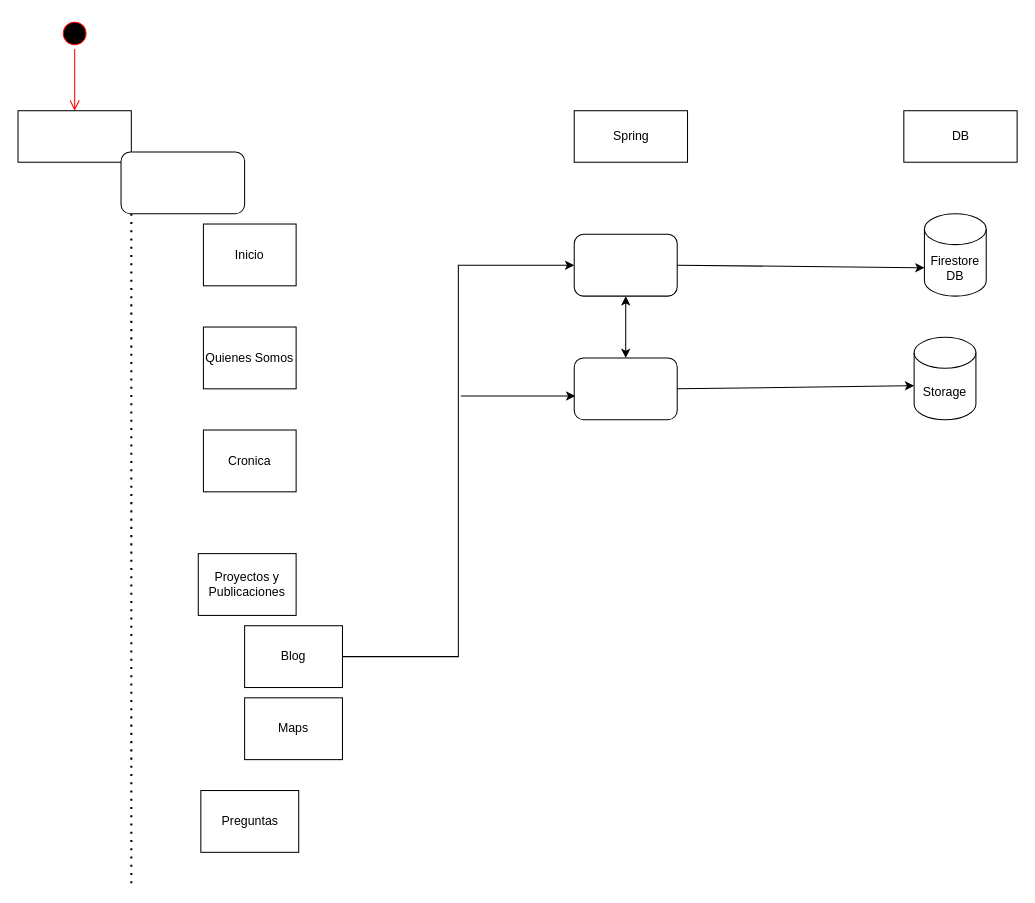
This 1035x903 diagram has some shape labels left out. The centre of each missing label's shape, as x and y in pixels:
"Frontend" belongs at (74,136).
"Image Supplier" belongs at (625,388).
"Nav Bar" belongs at (182,182).
"Publications managment" belongs at (625,264).
